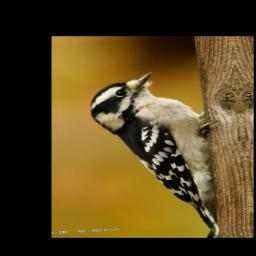Woodpecker: (85, 68, 228, 236)
